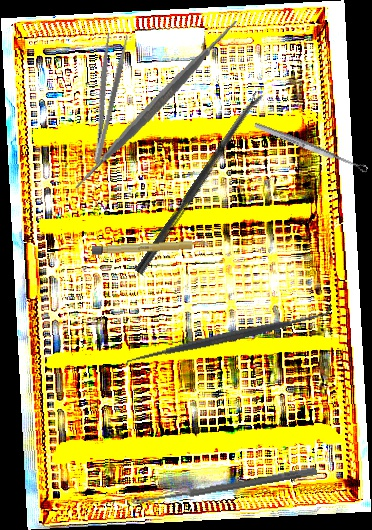Dressing Forceps: (79, 30, 131, 166)
Scalpel Handle: (91, 239, 209, 256)
Spatula Surgical: (60, 9, 251, 200), (122, 301, 336, 372)
Surgical Spoon: (134, 90, 265, 276), (131, 465, 318, 508), (253, 121, 369, 174)
